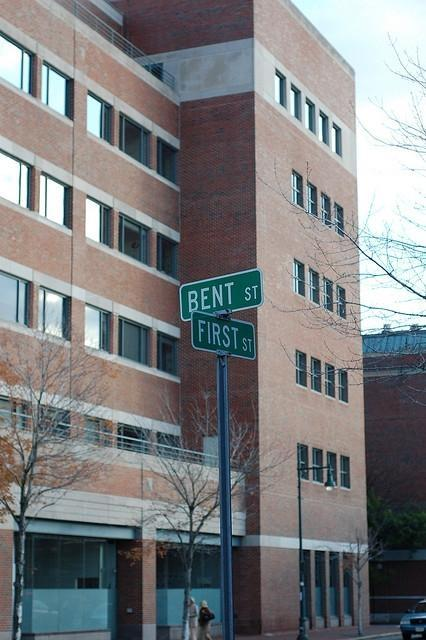car: (400, 598, 426, 639)
